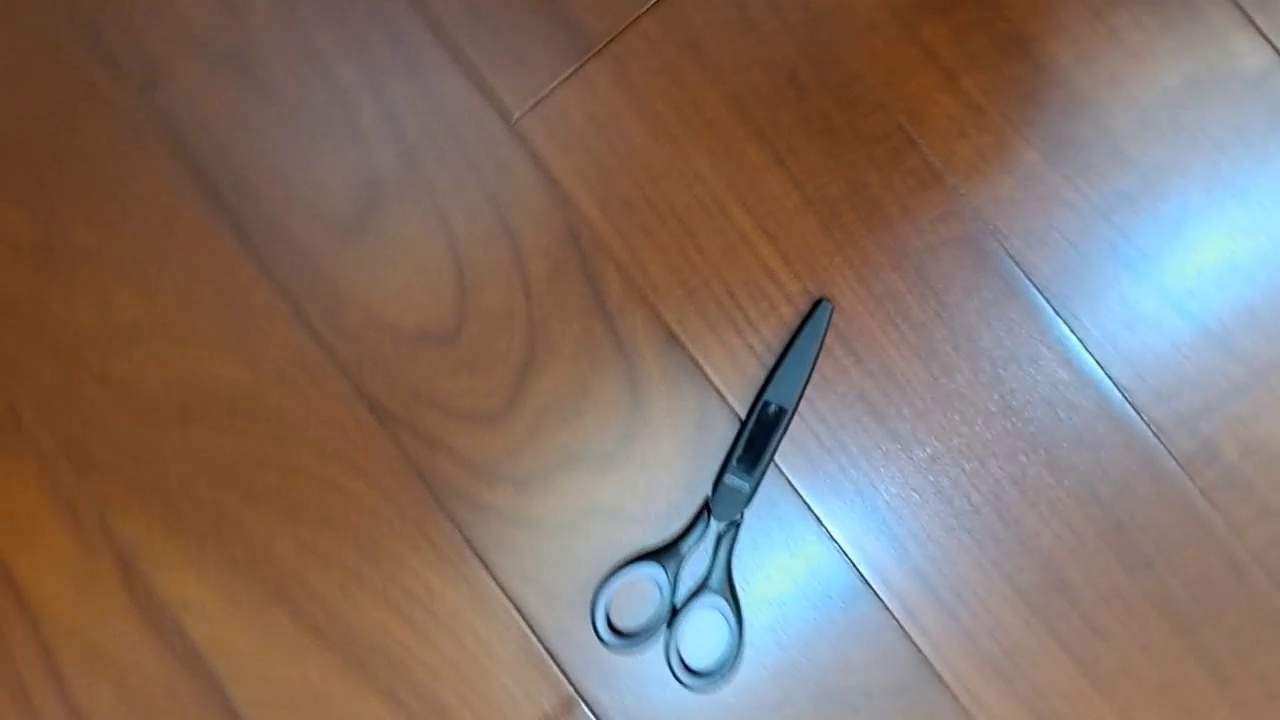scissors: (588, 294, 836, 694)
